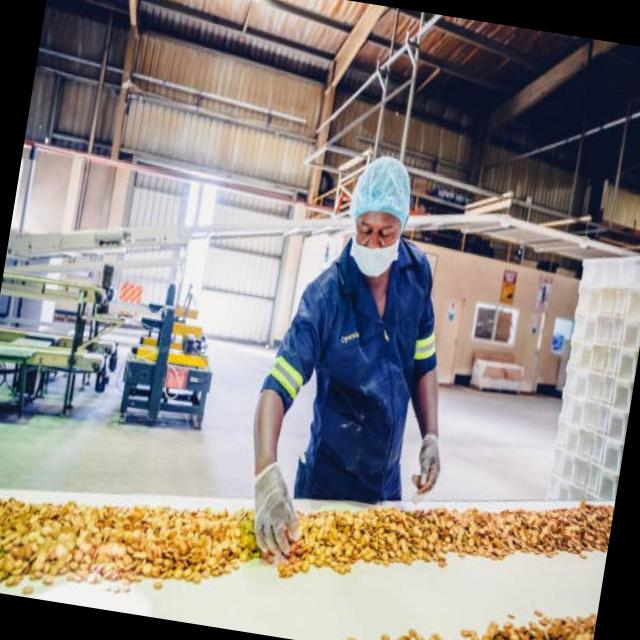Gloves: (238, 454, 313, 566), (407, 426, 448, 500)
